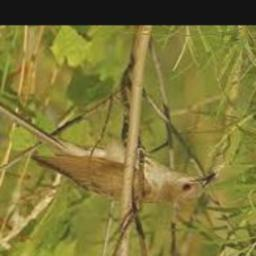Cuckoo: (0, 86, 215, 203)
